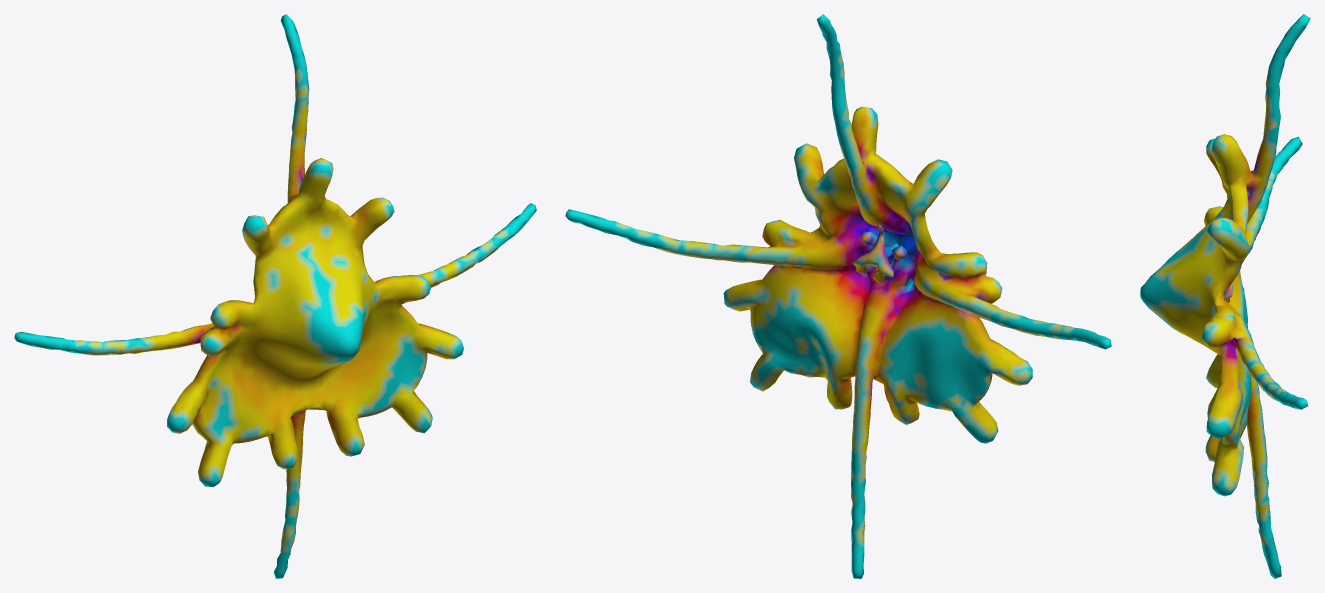
The model's file is jelly_34.gltf.
3 renders of one model, left to right at view 1: azimuth 30°, elevation 25°; view 2: azimuth 150°, elevation 25°; view 3: azimuth 270°, elevation 25°, orthographic. The views are drawn at different scales.
Visible parts, largest first — view 1: jellysquid3; view 2: jellysquid3; view 3: jellysquid3.
Part boxes in pixels (box(x1,y1,x2,y2)): jellysquid3: box(14, 14, 536, 578); jellysquid3: box(565, 14, 1111, 578); jellysquid3: box(1140, 14, 1310, 578).
Bounding box in the file's own units: 29 × 29.1 × 7.84.
